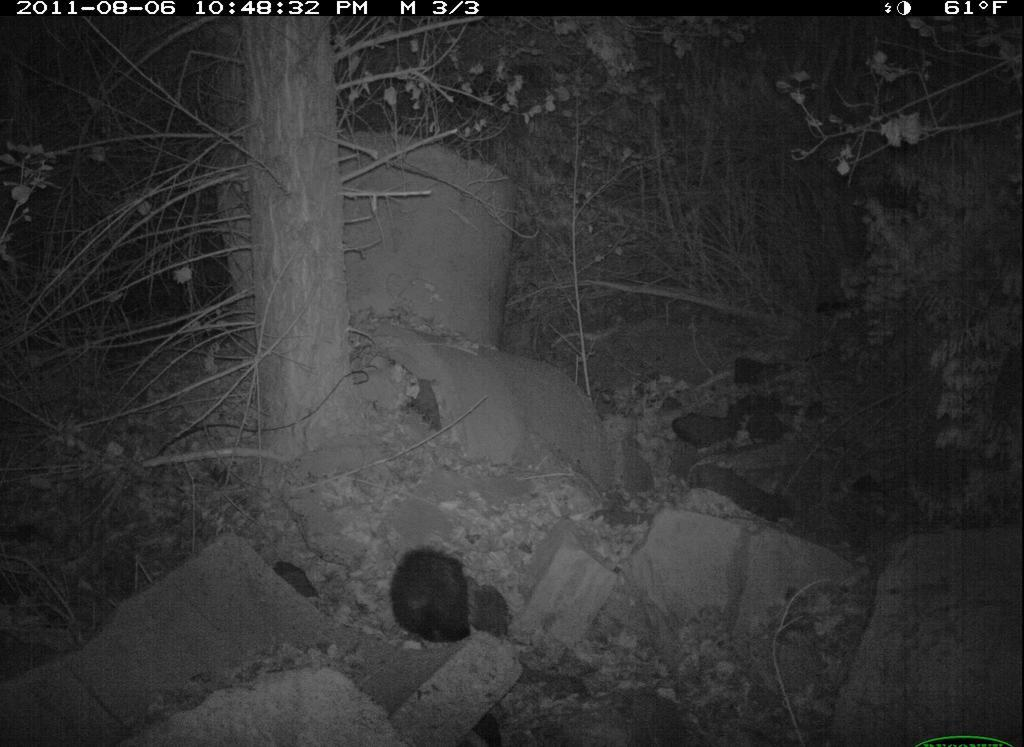skunk: (390, 538, 515, 657)
